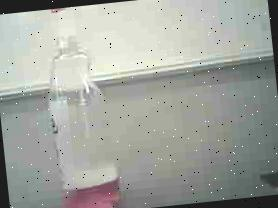hazard: (27, 1, 143, 208)
